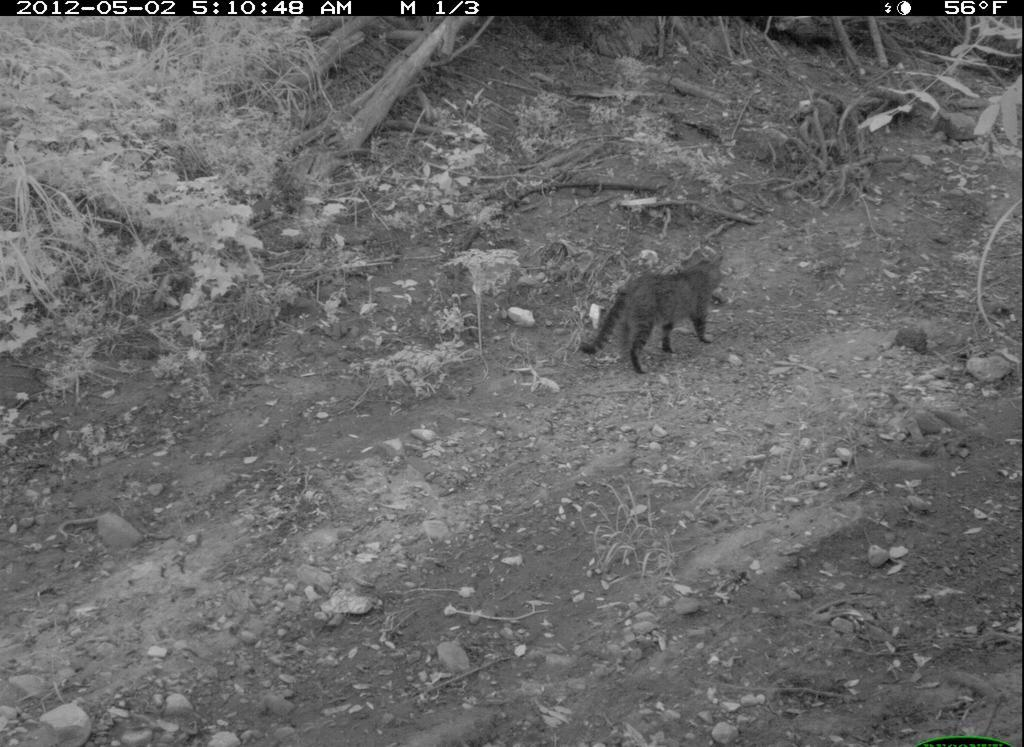cat: (577, 245, 730, 378)
